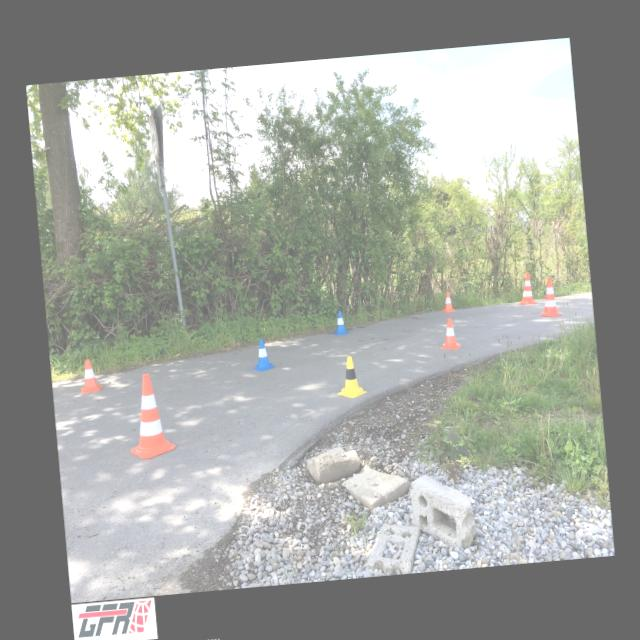blue_cone: (250, 337, 275, 371), (332, 310, 349, 335)
large_orange_cone: (124, 371, 176, 459), (536, 276, 562, 318), (516, 272, 536, 305)
orange_cone: (76, 358, 102, 393), (438, 316, 462, 351), (440, 290, 456, 313)
yellow_cone: (334, 354, 367, 398)
